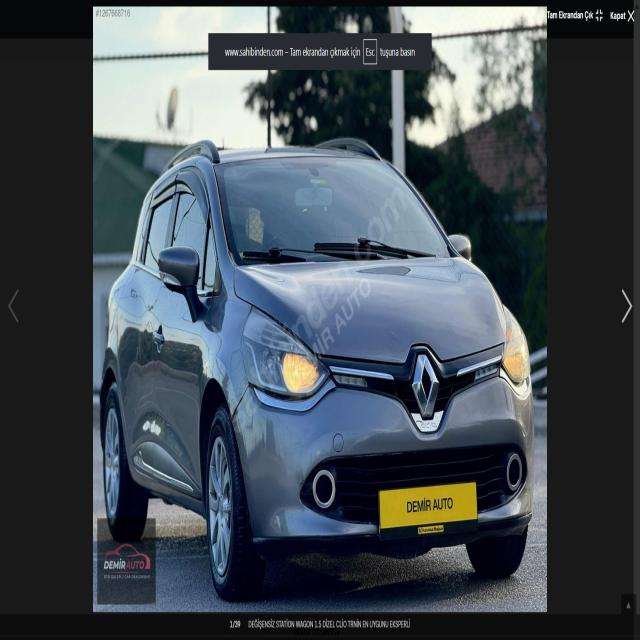renault: (394, 342, 452, 423)
